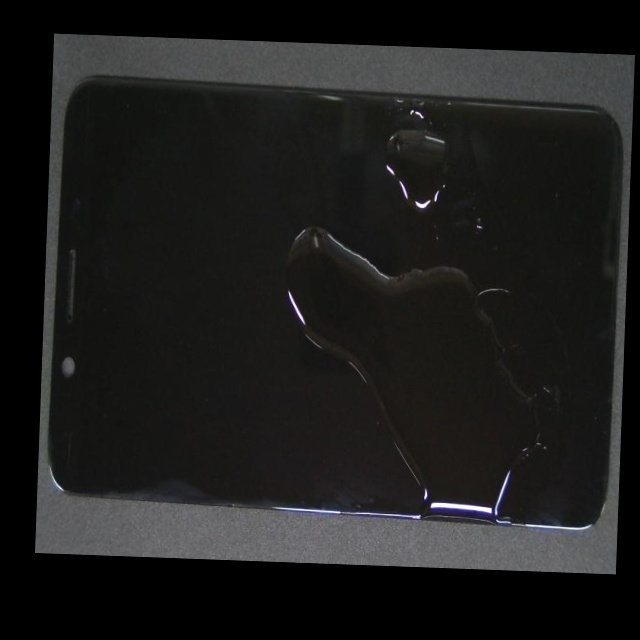oil: (134, 167, 465, 503), (222, 140, 628, 282)
